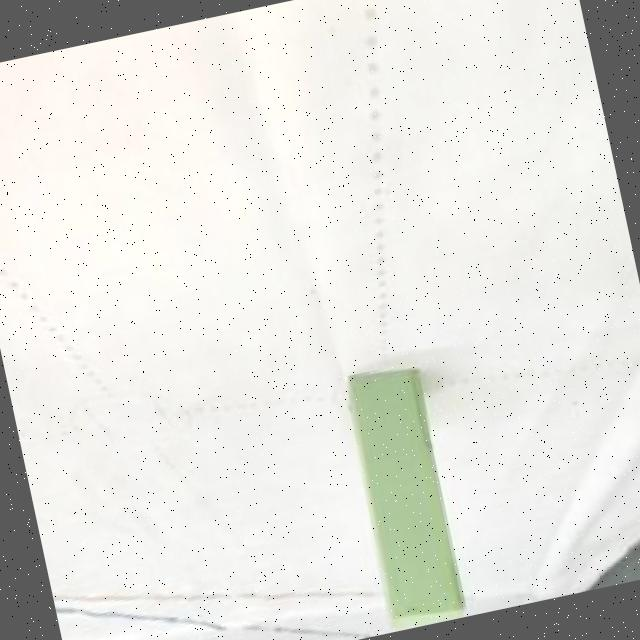greenbox: (342, 362, 471, 628)
